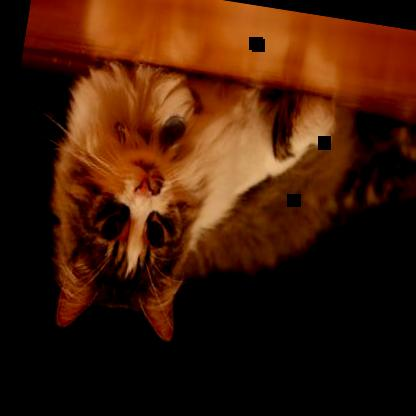cat: (35, 51, 415, 382)
